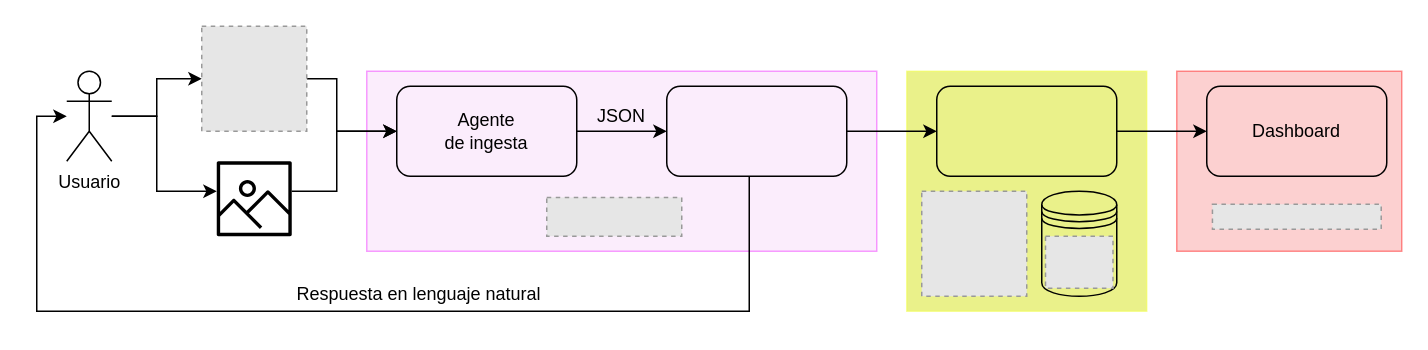
This 1428x350 diagram has some shape labels left out. Grey dashed boxes stand in for pictures. Each missing label, with the box of its shape:
Agente de análisis: (665, 85, 847, 176)
Registro de incidencias: (935, 85, 1117, 176)
